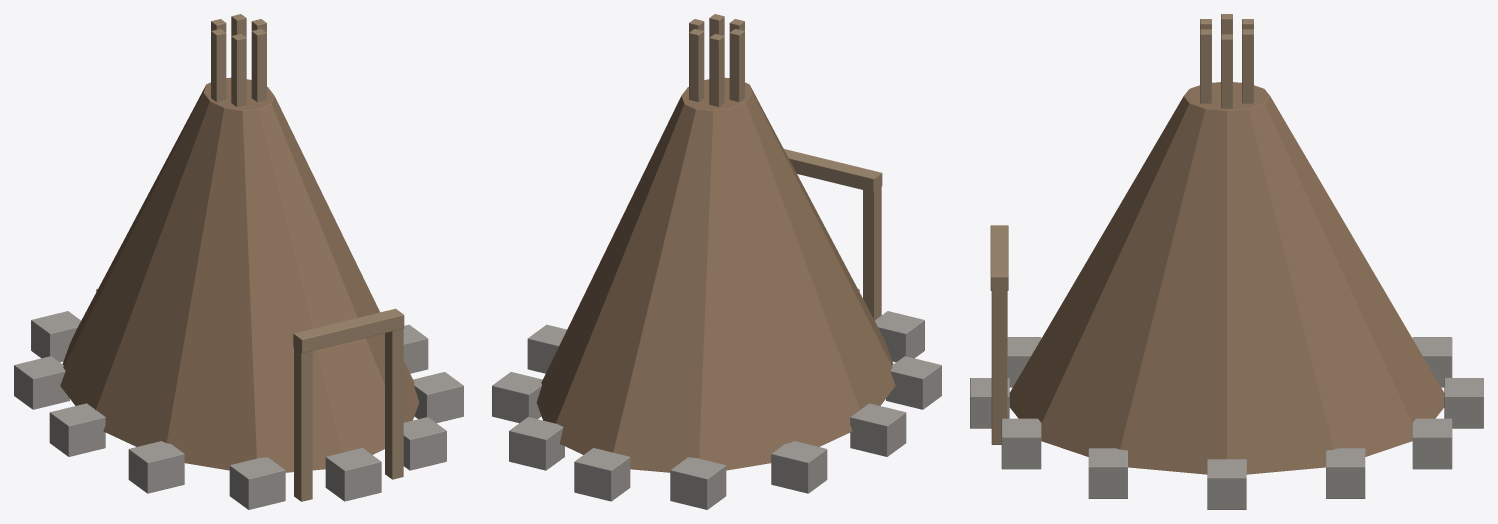
Rendered from House_Paleo_c.glb.
3 renders of one model, left to right at view 1: azimuth 30°, elevation 25°; view 2: azimuth 150°, elevation 25°; view 3: azimuth 270°, elevation 25°, orthographic. The views are drawn at different scales.
Parts seen in each view (by area): view 1: House_Paleo_c; view 2: House_Paleo_c; view 3: House_Paleo_c.
Part boxes in pixels (left/top/right/bottom): House_Paleo_c: left=14, top=14, right=463, bottom=509; House_Paleo_c: left=492, top=14, right=941, bottom=509; House_Paleo_c: left=970, top=14, right=1483, bottom=509.
Size of what is drawn, in the model's own units: 4.35 by 4.39 by 5.2.
